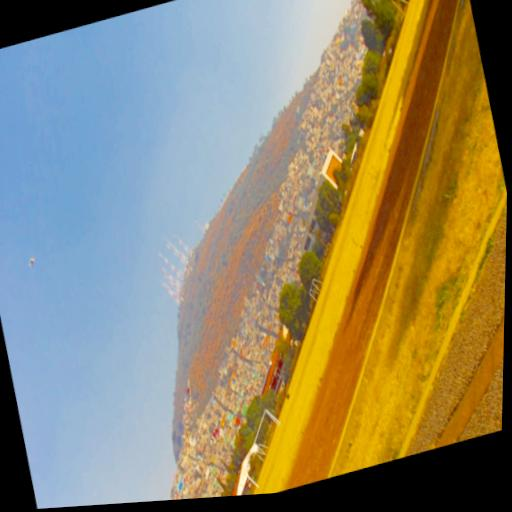drones: (24, 251, 38, 270)
